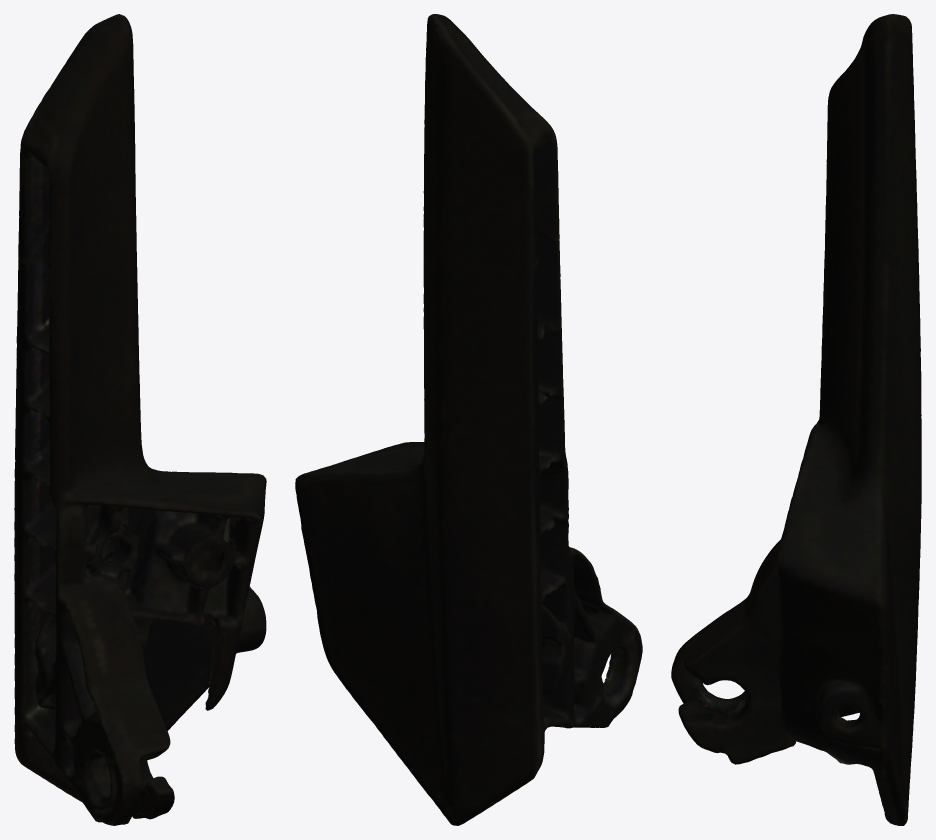
Rendered from car_lock_black_raw.obj.
3 views of the same model, side by side, from view 1: azimuth 30°, elevation 25°; view 2: azimuth 150°, elevation 25°; view 3: azimuth 270°, elevation 25° (orthographic). The views are drawn at different scales.
Size of the model in its own units: 0.043 by 0.1317 by 0.0363.
Materials: 1 (1 with a texture image).
